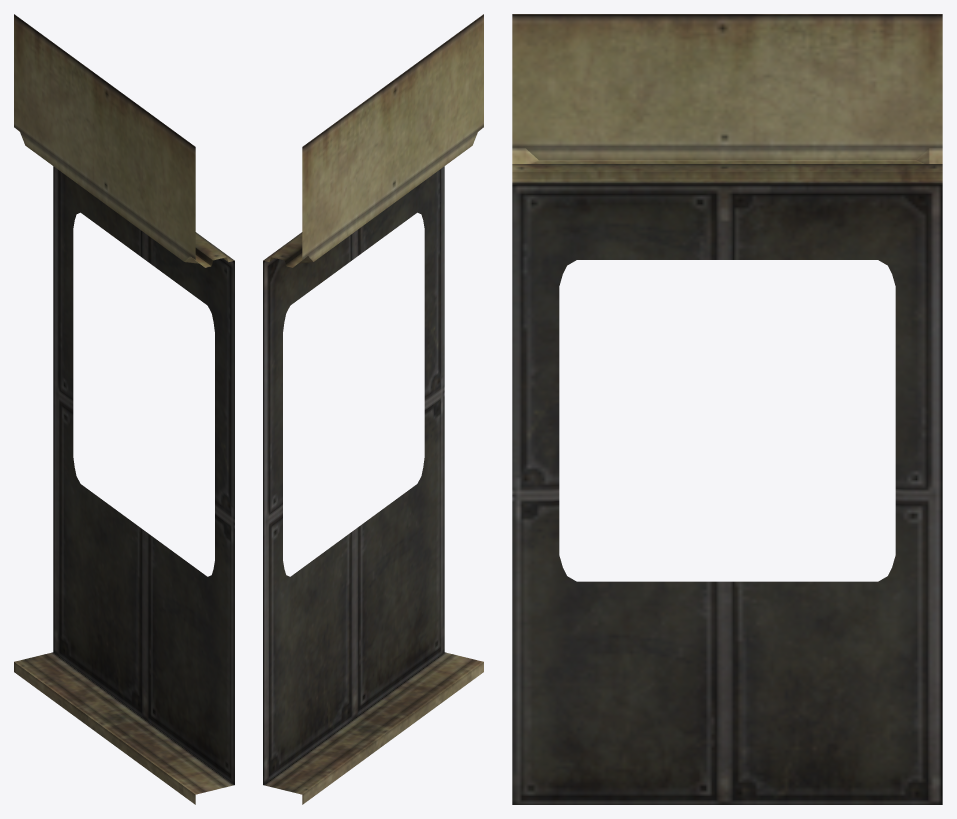
The model's file is pplant_ground_short_vent_hole.dae.
3 views of the same model, side by side, from view 1: azimuth 30°, elevation 25°; view 2: azimuth 150°, elevation 25°; view 3: azimuth 270°, elevation 25° (orthographic). The views are drawn at different scales.
Visible parts, largest first — view 1: ground_short; view 2: ground_short; view 3: ground_short.
Boxes of the visible parts, x1=… form: ground_short: x1=14, y1=14, x2=234, y2=804; ground_short: x1=263, y1=14, x2=483, y2=804; ground_short: x1=512, y1=14, x2=942, y2=804.
Bounding box in the file's own units: 0.25 × 4 × 2.
